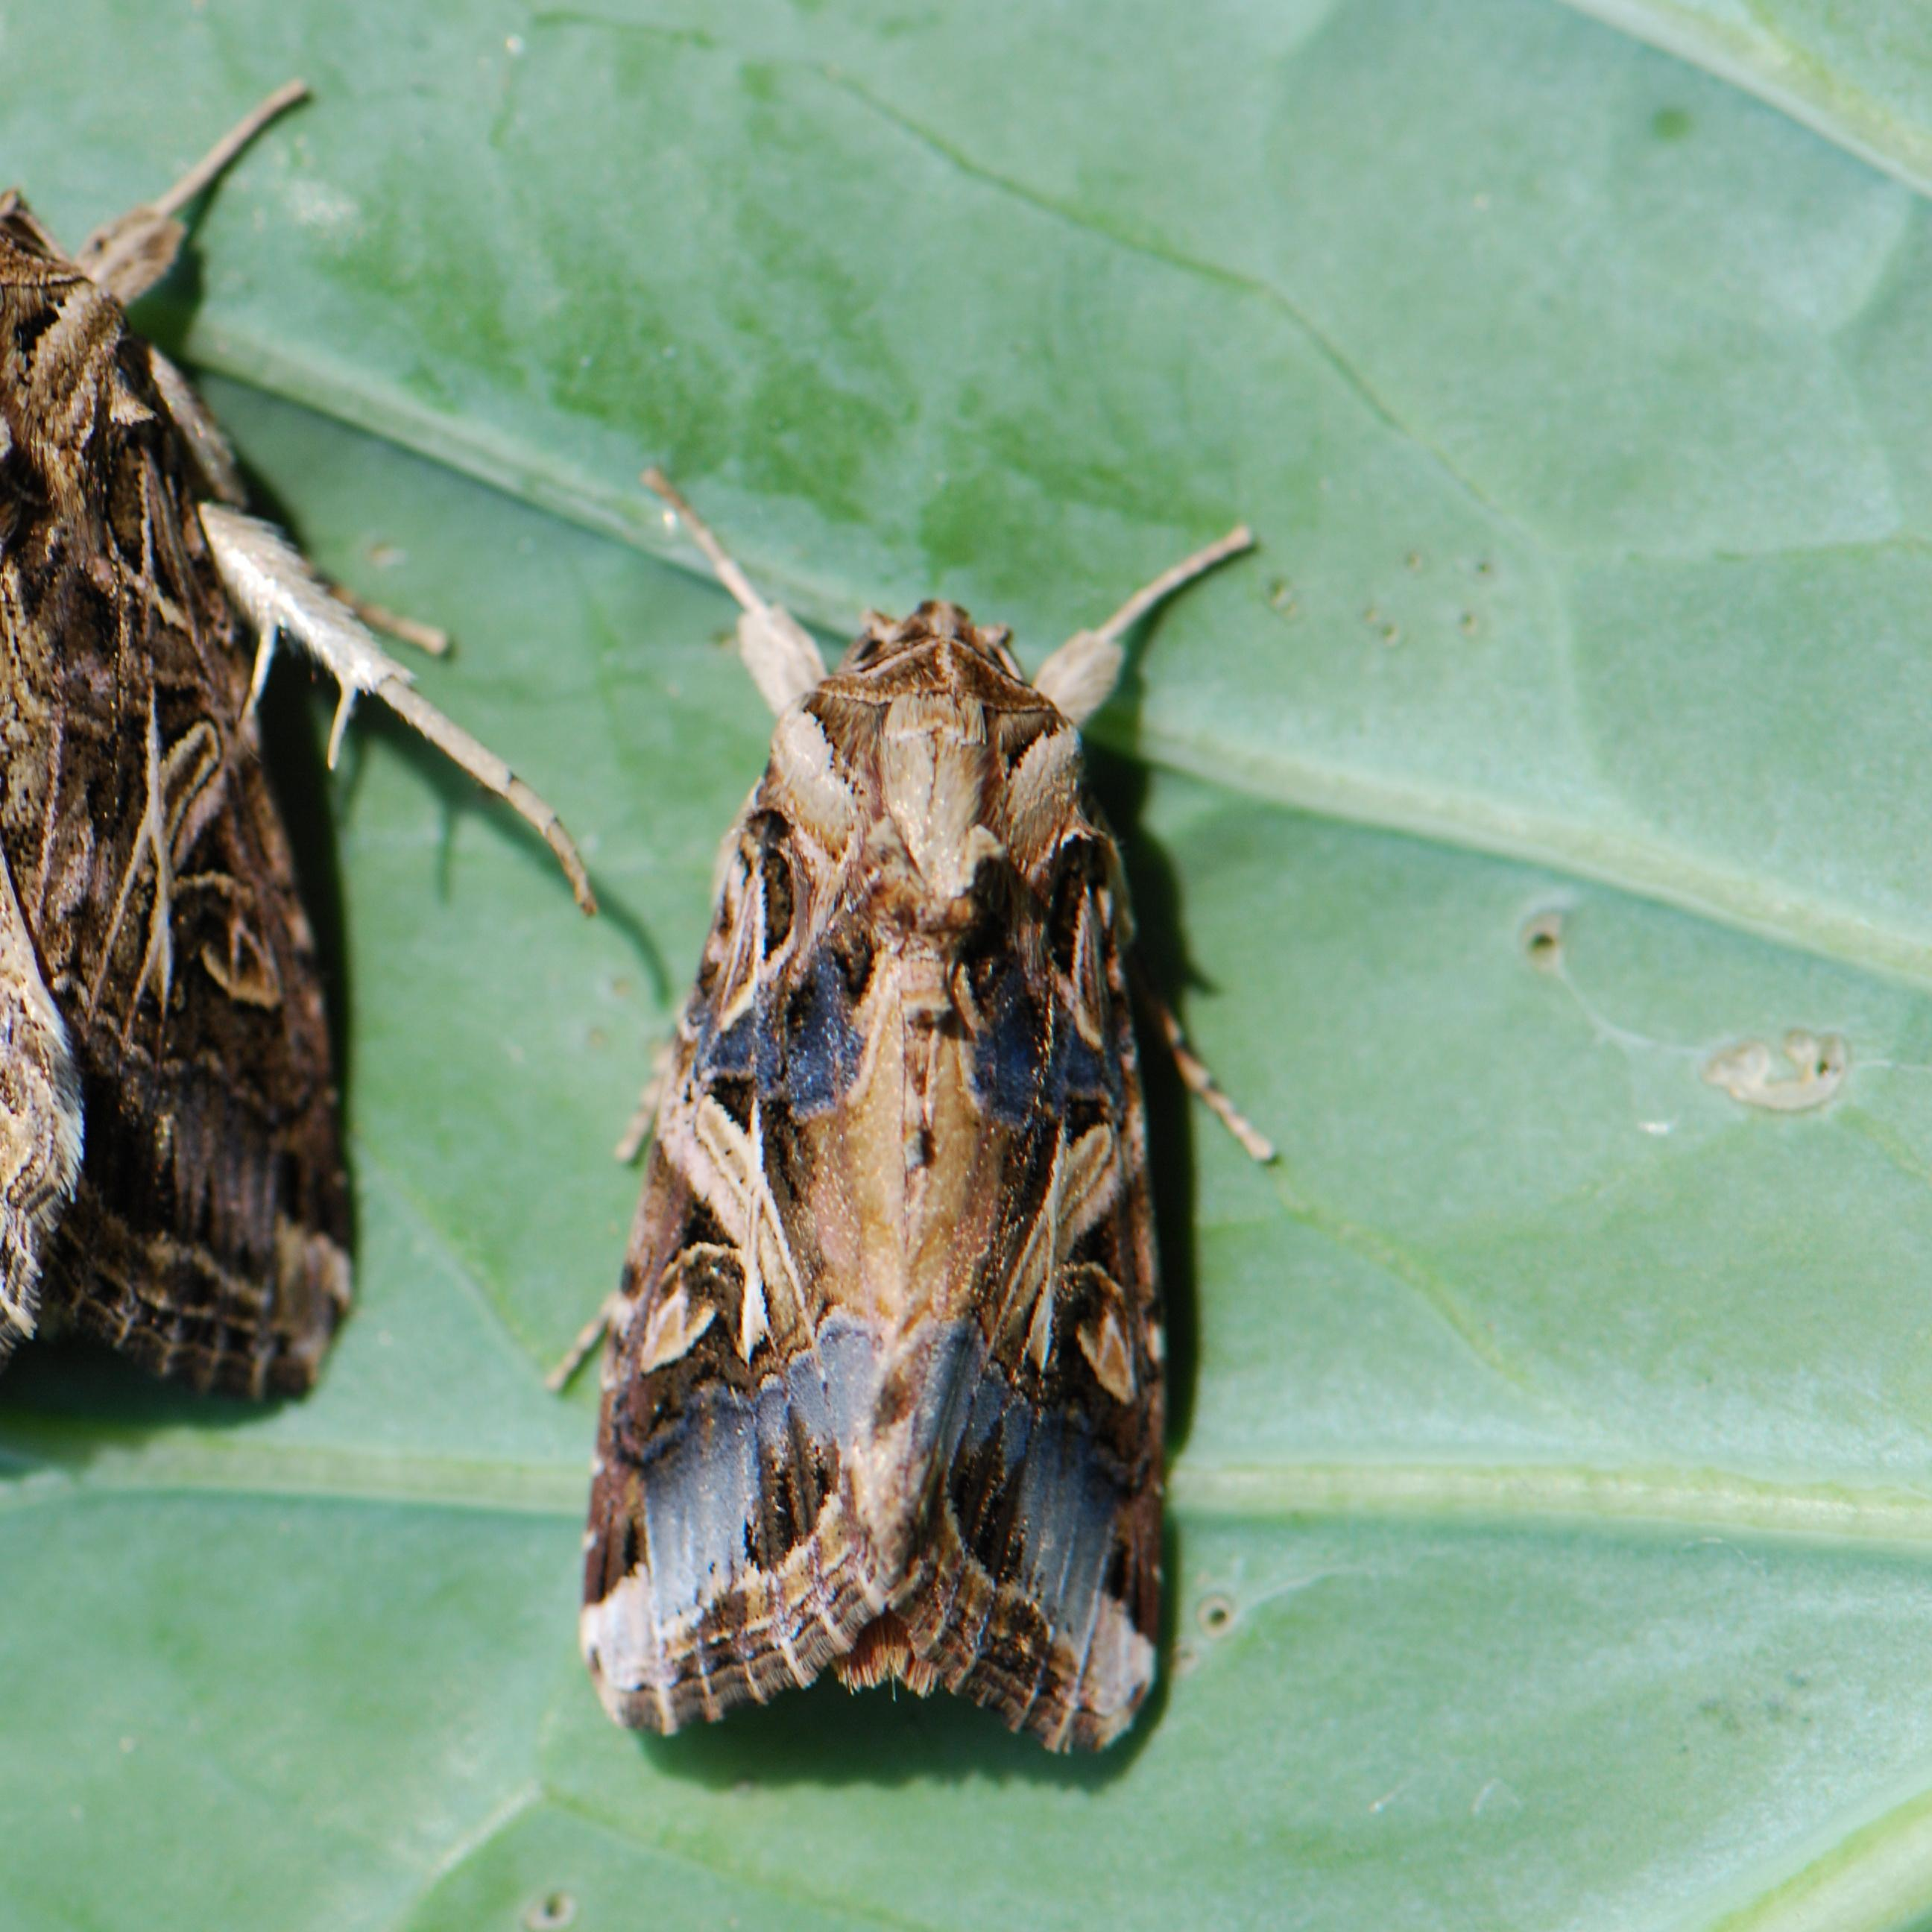Spodoptera litura: (547, 465, 1277, 1757), (2, 80, 596, 1408)
